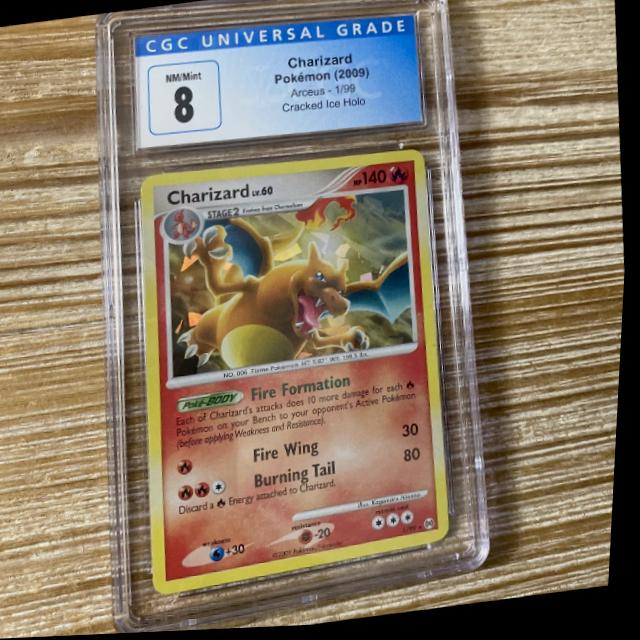card: (143, 151, 456, 597)
cgc_label_old: (134, 16, 425, 149)
cgc_slab: (95, 0, 498, 635)
